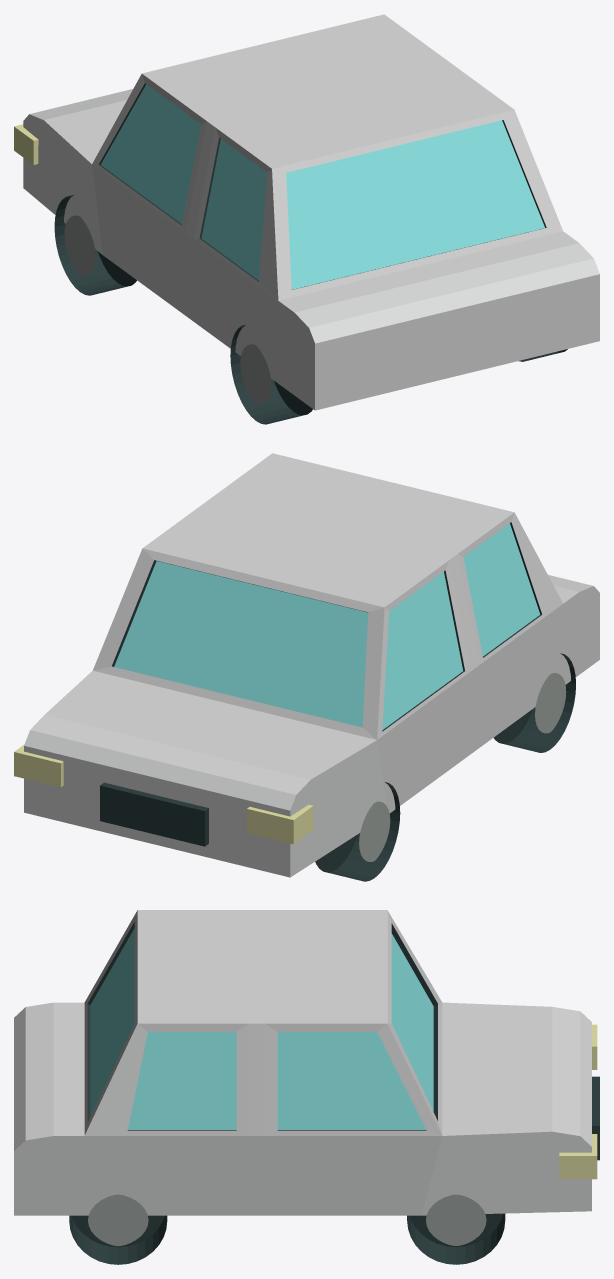
Rendered from white car.fbx.
The picture shows the model from 3 angles, top to bottom: view 1: azimuth 30°, elevation 25°; view 2: azimuth 150°, elevation 25°; view 3: azimuth 270°, elevation 25°; orthographic projection. The views are drawn at different scales.
Visible parts, largest first — view 1: Cube; view 2: Cube; view 3: Cube.
Boxes of the visible parts, <box> form: Cube: <box>14,14,599,424</box>; Cube: <box>14,453,599,881</box>; Cube: <box>14,910,599,1264</box>.
Size of the model in its own units: 207 by 160 by 371.
